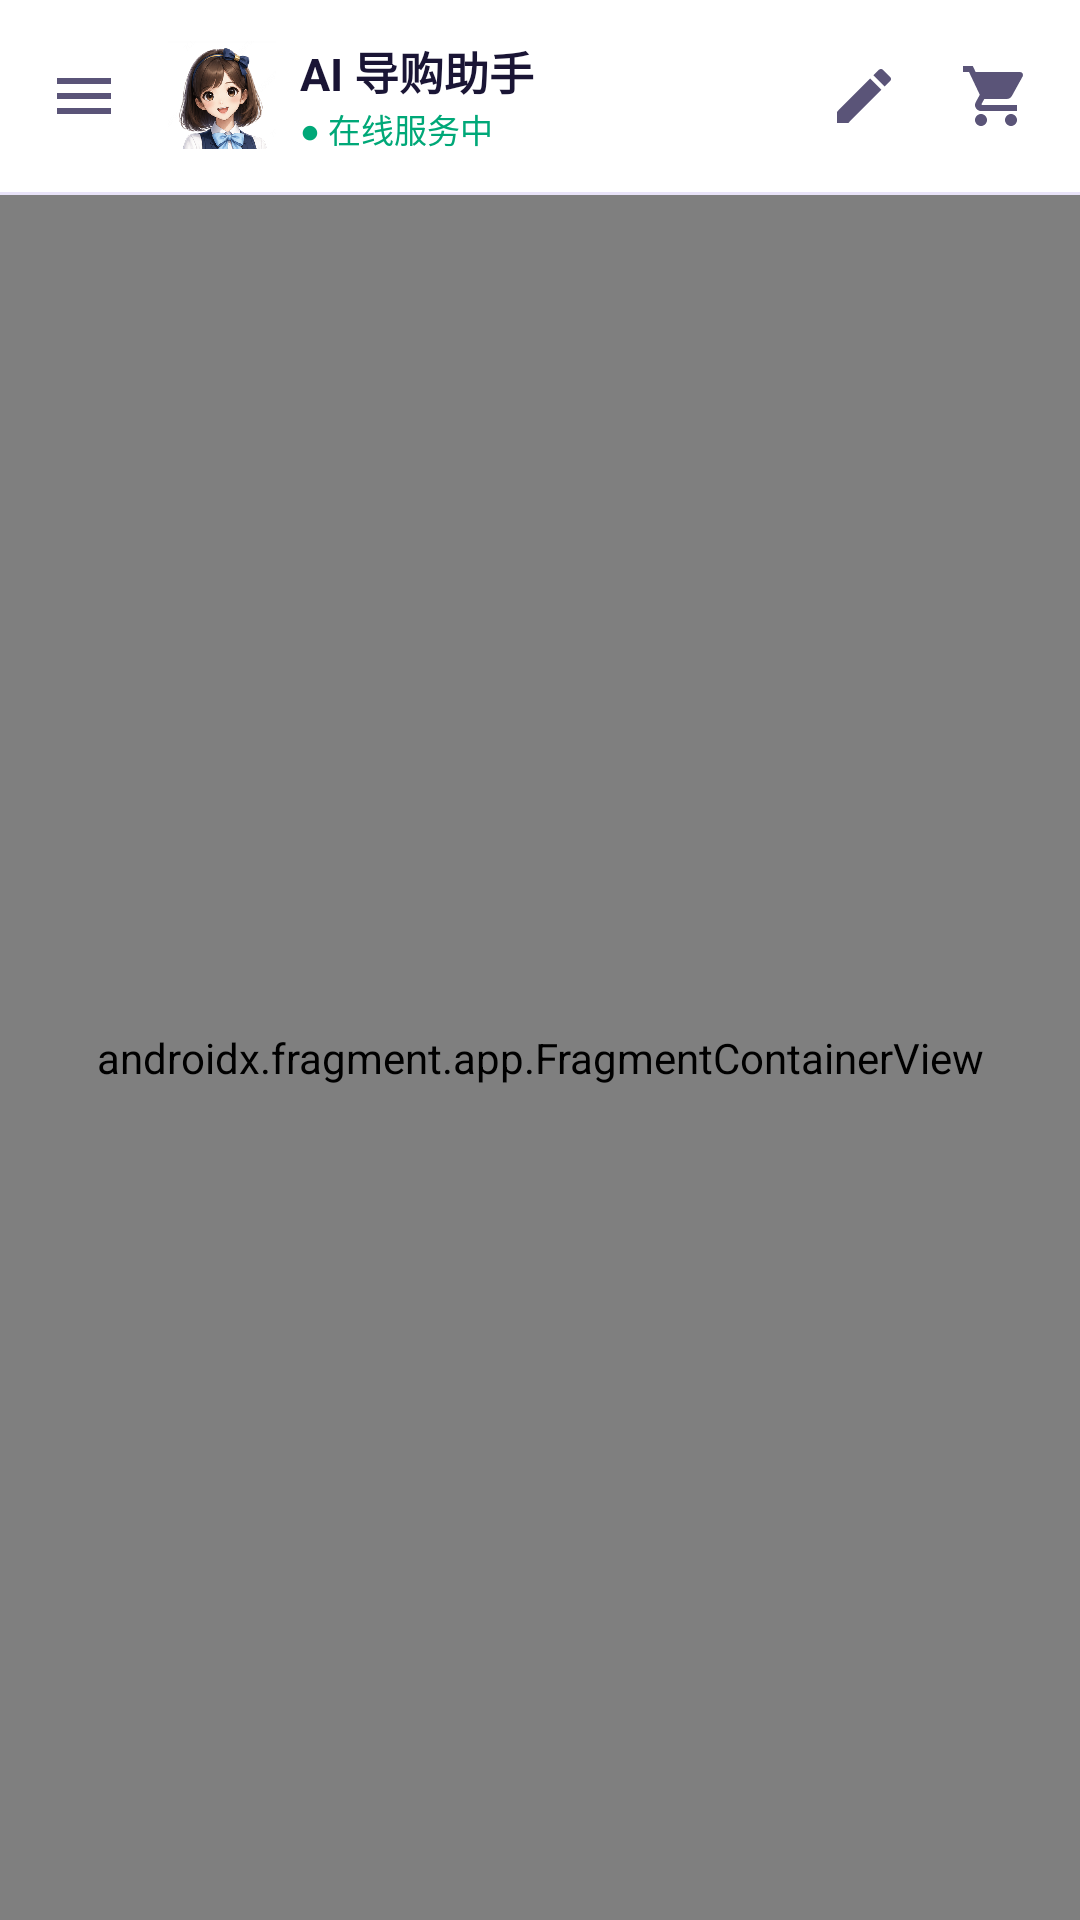

Screen size 1080w x 1920h. Icon name, then its center in pixels as point (x, y):
导购头像: point (222, 98)
新对话: point (864, 96)
菜单: point (84, 96)
购物车: point (993, 96)
